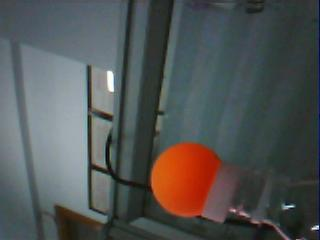oball: (150, 141, 221, 218)
